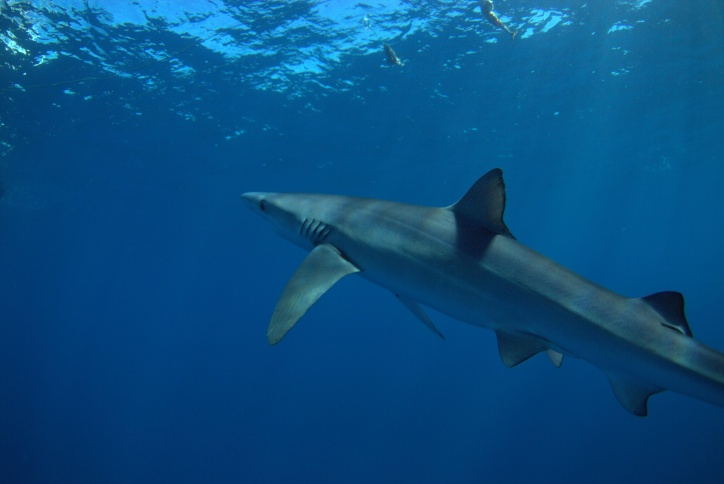Azul: (228, 143, 724, 436)
